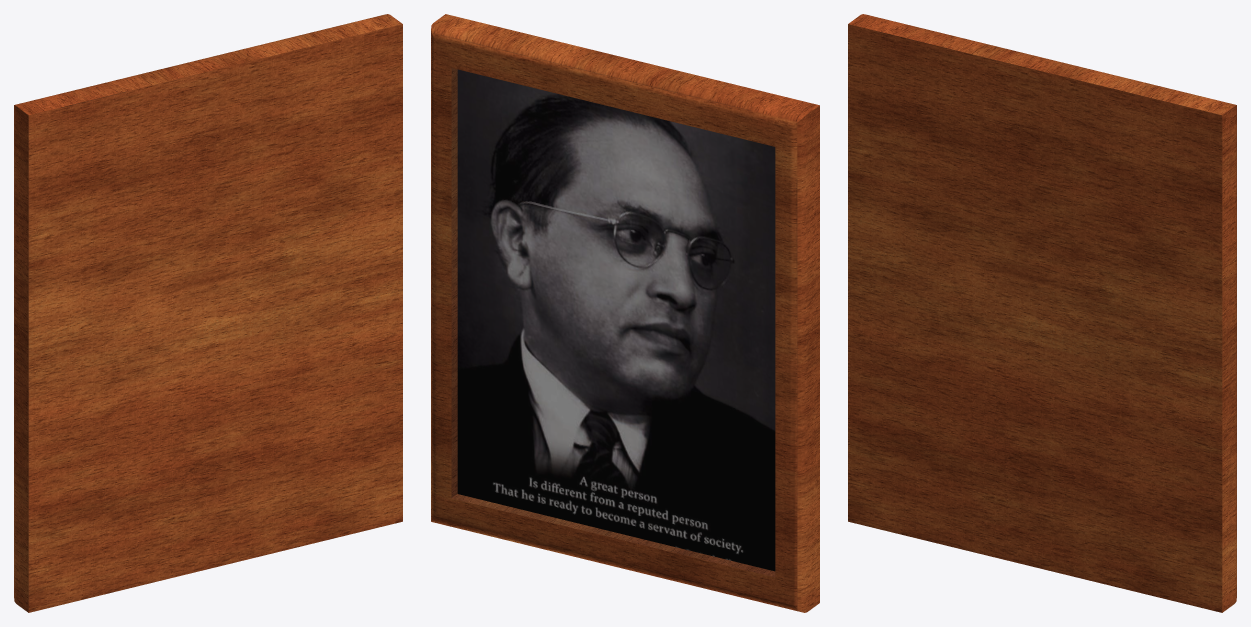
The picture shows the model from 3 angles, left to right: view 1: azimuth 30°, elevation 25°; view 2: azimuth 150°, elevation 25°; view 3: azimuth 330°, elevation 25°; orthographic projection.
Parts seen in each view (by area): view 1: frame.002; view 2: photo, frame.002; view 3: frame.002.
Part boxes in pixels (x1,y1,x2,y2): frame.002: (14,14,402,612); photo: (457,69,775,571); frame.002: (431,14,819,612); frame.002: (848,14,1236,612).
Bounding box in the file's own units: 1.57 × 2 × 0.1414.
2 materials, 2 textured.
